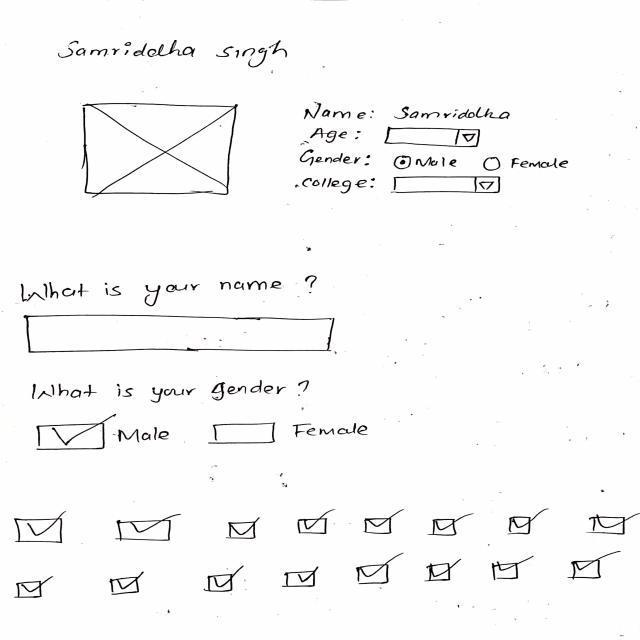radio: (476, 150, 502, 174), (392, 152, 416, 172)
textbox: (22, 313, 345, 357)
